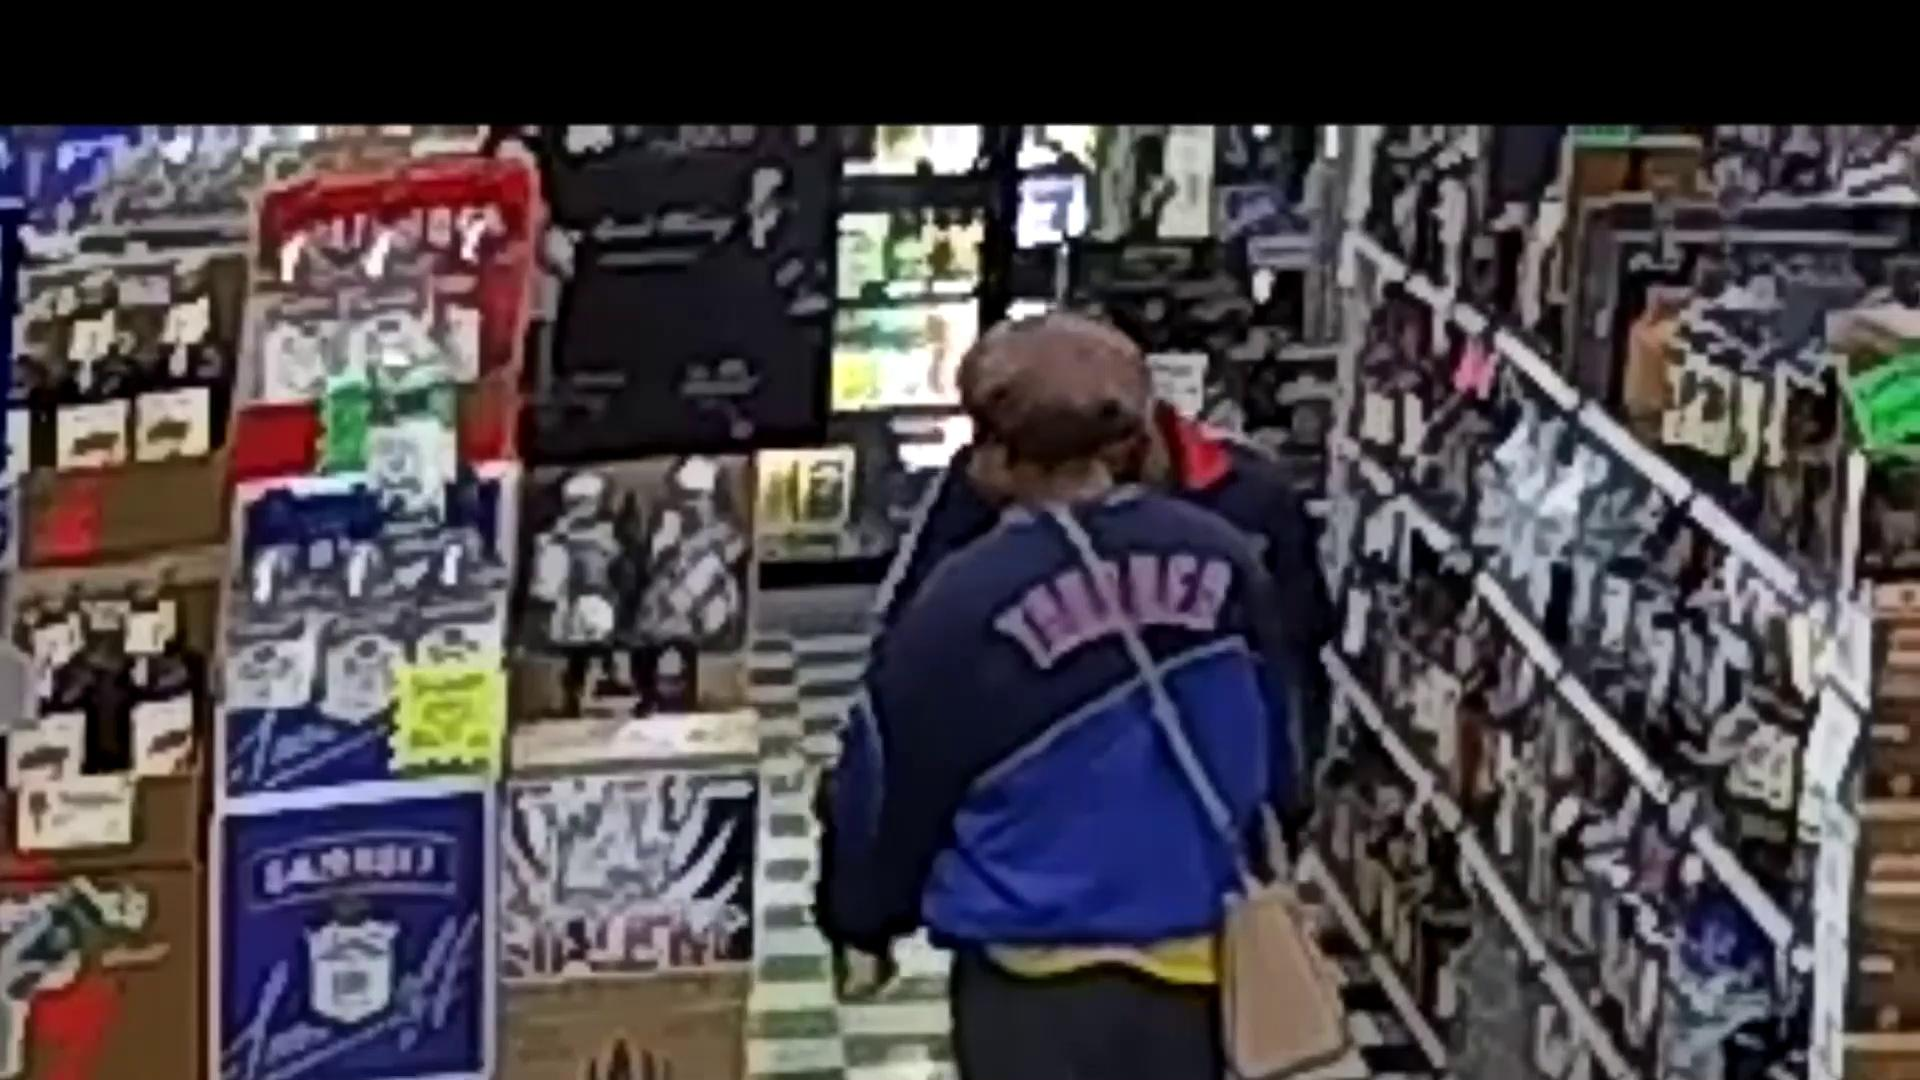Customer-Bagpack: (1167, 845, 1374, 1079)
Regular: (818, 298, 1412, 1080)
